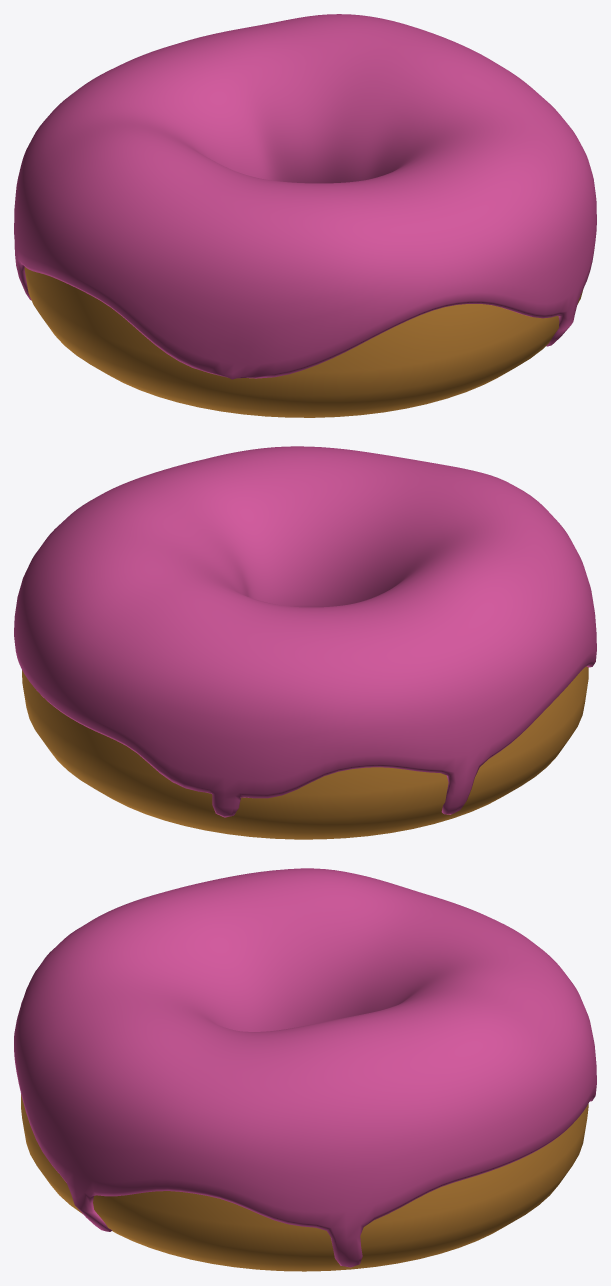
File: donut.obj
3 renders of one model, top to bottom at view 1: azimuth 30°, elevation 25°; view 2: azimuth 150°, elevation 25°; view 3: azimuth 270°, elevation 25°, orthographic.
Visible parts, largest first — view 1: Icing, Donut; view 2: Icing, Donut; view 3: Icing, Donut.
Part boxes in pixels (left/top/right/bottom): Icing: left=14, top=14, right=596, bottom=379; Donut: left=24, top=267, right=583, bottom=417; Icing: left=14, top=446, right=596, bottom=817; Donut: left=22, top=666, right=588, bottom=839; Icing: left=14, top=868, right=596, bottom=1267; Donut: left=21, top=1094, right=588, bottom=1271.
Bounding box in the file's own units: 1.24 × 0.5367 × 1.24.
